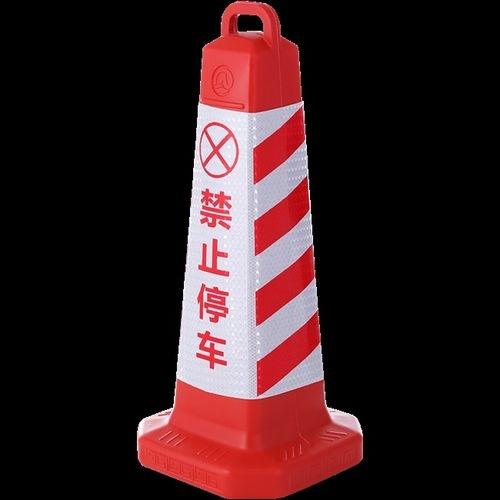cone_barrel: (135, 9, 360, 488)
